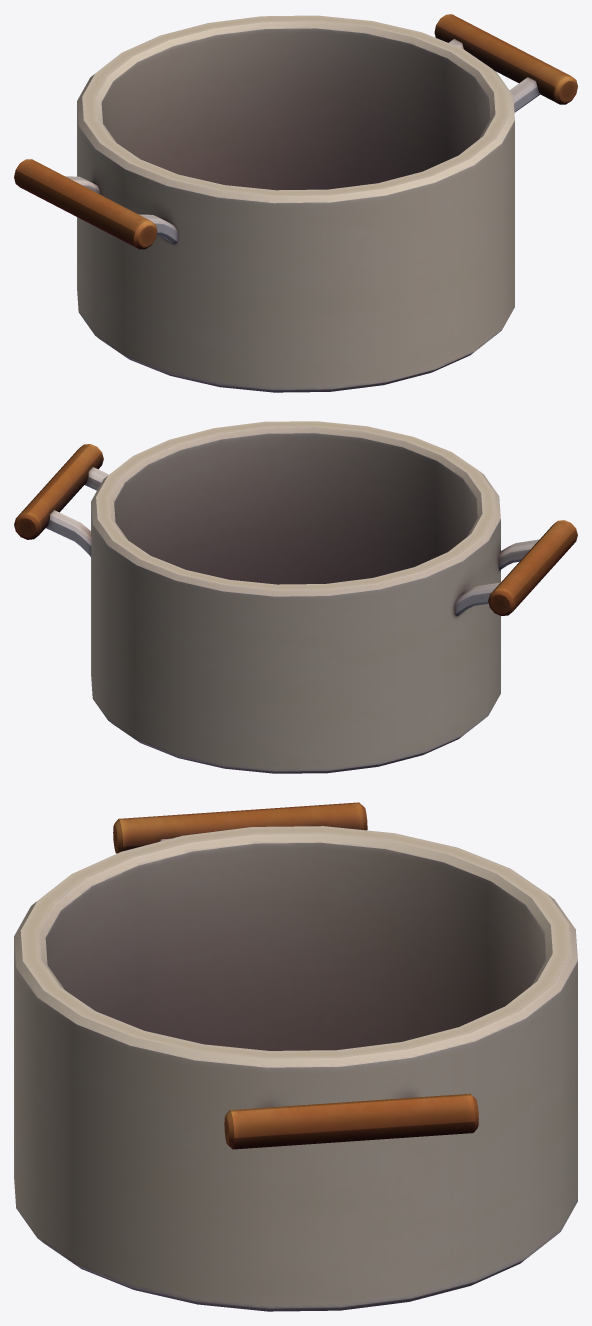
3 views of the same model, one above another, from view 1: azimuth 30°, elevation 25°; view 2: azimuth 150°, elevation 25°; view 3: azimuth 270°, elevation 25° (orthographic). The views are drawn at different scales.
Visible parts, largest first — view 1: utensils_pot; view 2: utensils_pot; view 3: utensils_pot.
Boxes of the visible parts, x1,y1,x2,y2 form: utensils_pot: (14, 14, 577, 392); utensils_pot: (14, 421, 577, 773); utensils_pot: (14, 802, 577, 1311).
Size of the model in its own units: 1.72 by 0.6237 by 1.26.
1 material, 1 textured.
